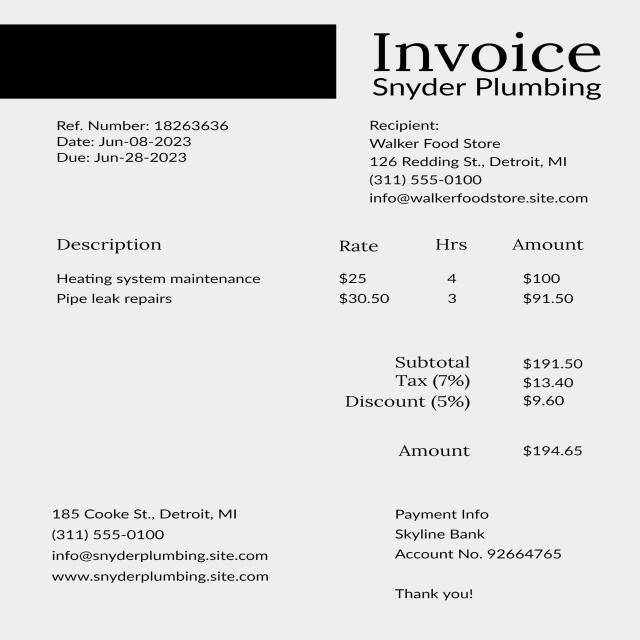ROI: (51, 229, 591, 328), (332, 341, 595, 467), (363, 117, 596, 209), (370, 24, 605, 104), (49, 505, 271, 587), (392, 508, 572, 605), (47, 115, 233, 166)
